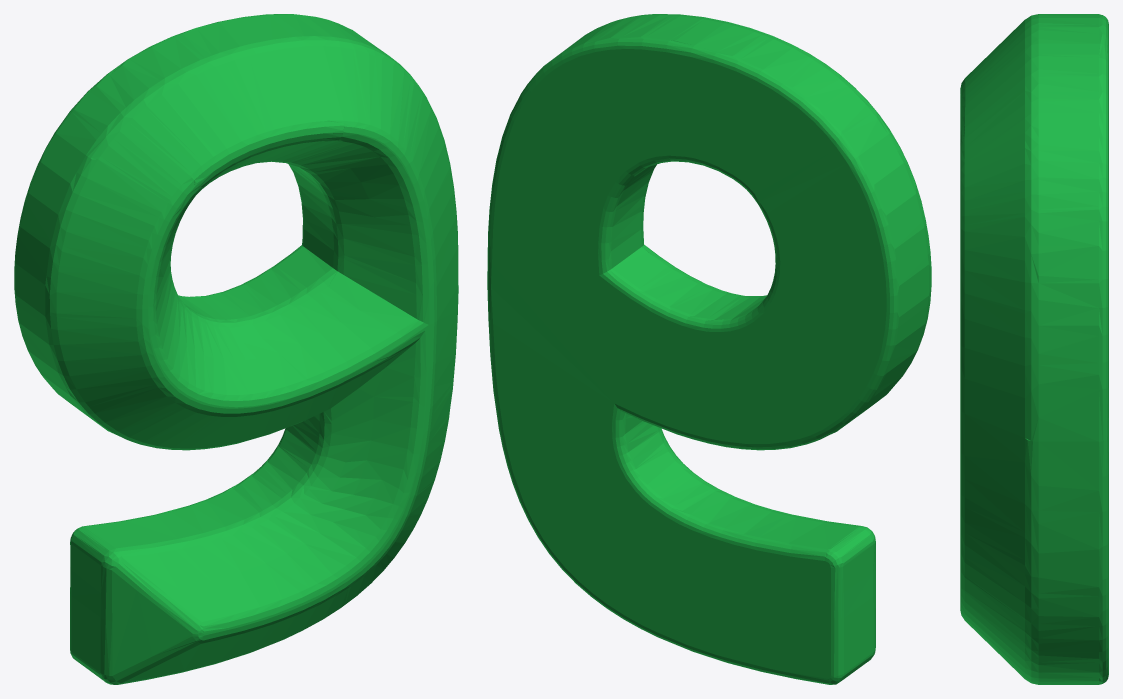
The model's file is nine.obj.
The picture shows the model from 3 angles, left to right: view 1: azimuth 30°, elevation 25°; view 2: azimuth 150°, elevation 25°; view 3: azimuth 270°, elevation 25°; orthographic projection. The views are drawn at different scales.
Visible parts, largest first — view 1: Object.1; view 2: Object.1; view 3: Object.1.
Boxes of the visible parts, x1,y1,x2,y2 form: Object.1: (14, 14, 458, 684); Object.1: (487, 14, 931, 684); Object.1: (960, 14, 1108, 684).
Size of the model in its own units: 17.39 by 24.65 by 5.32.
